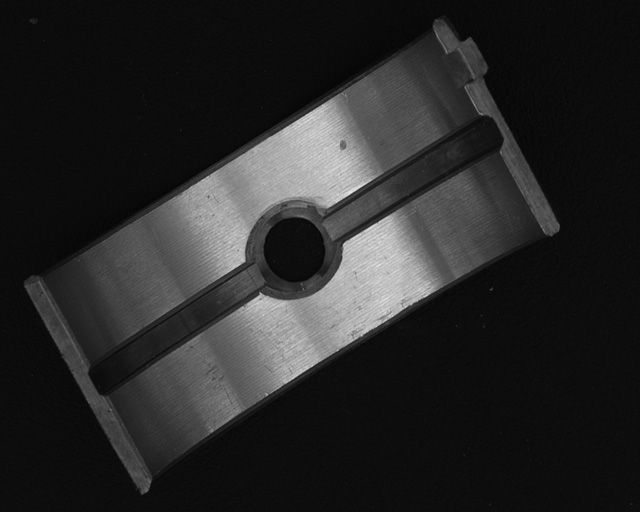bruise: (337, 138, 348, 150)
gap: (89, 264, 263, 394), (326, 117, 502, 242)
hole: (254, 206, 330, 294)
